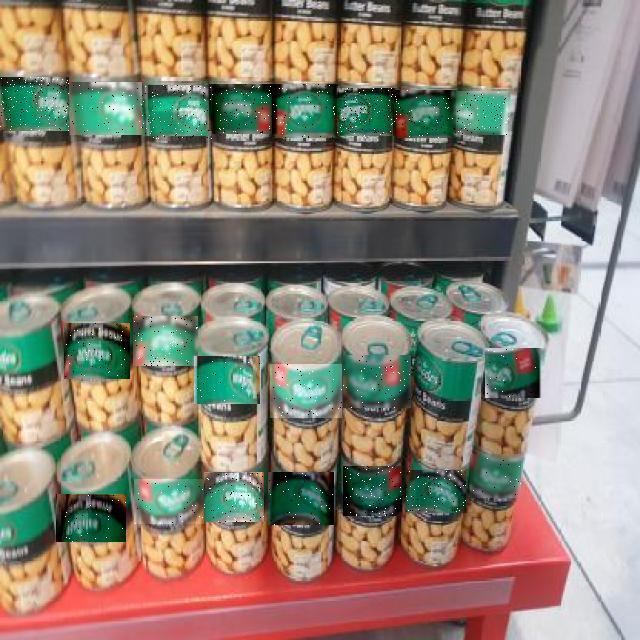Beans: (270, 364, 342, 418), (70, 82, 142, 135), (142, 86, 212, 140), (0, 77, 69, 131), (65, 323, 131, 379), (272, 84, 340, 138), (343, 355, 411, 408), (269, 472, 335, 525), (209, 84, 277, 134), (56, 495, 126, 543), (133, 316, 198, 366), (194, 356, 260, 404), (134, 479, 204, 524), (204, 472, 264, 522), (343, 466, 402, 516), (486, 348, 544, 398), (338, 89, 398, 137), (398, 90, 458, 138), (406, 470, 466, 513), (454, 91, 510, 135), (470, 454, 521, 498)
